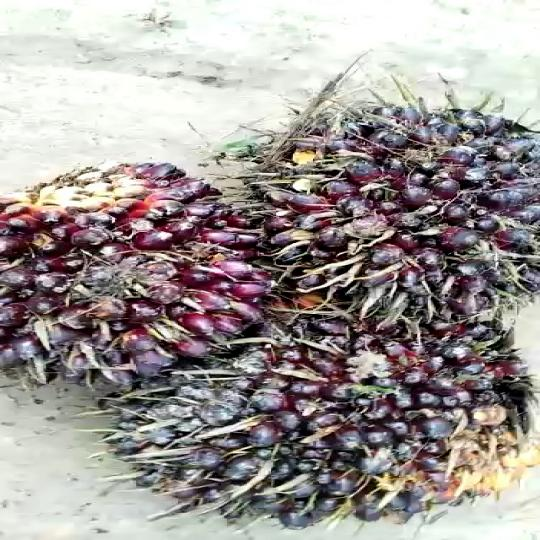kurang masak: (123, 312, 540, 525), (228, 94, 540, 316), (0, 156, 285, 394)
